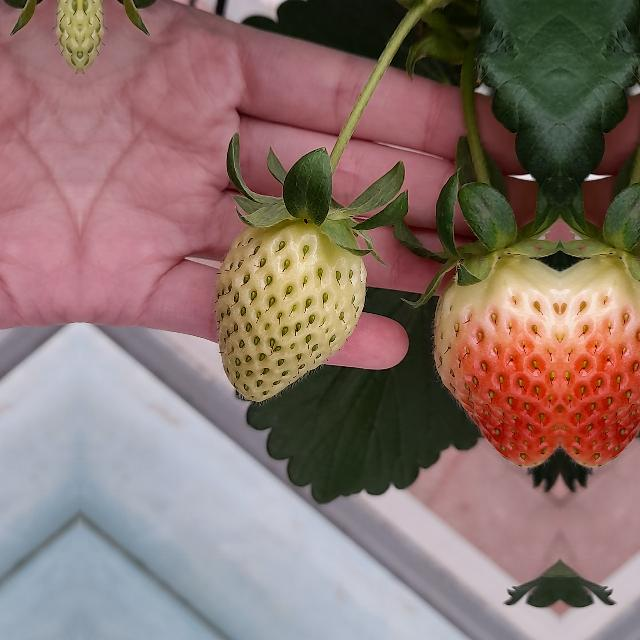Health_25: (216, 219, 366, 401)
Health_75: (424, 252, 560, 468), (560, 252, 640, 467)
